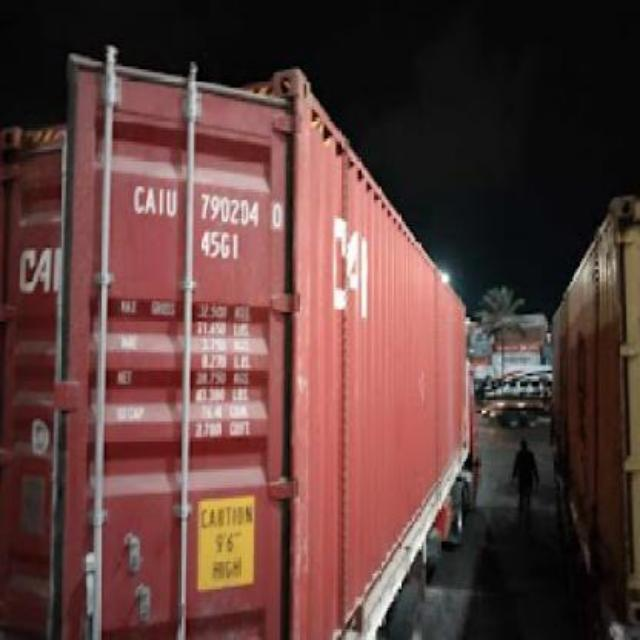0: (240, 192, 250, 226), (220, 192, 230, 222), (272, 200, 282, 227)
2: (230, 192, 240, 224)
4: (250, 192, 262, 230)
7: (198, 186, 210, 222)
9: (210, 186, 220, 222)
A: (144, 182, 158, 214)
C: (132, 182, 146, 214)
I: (158, 184, 166, 216)
U: (166, 188, 178, 216)
